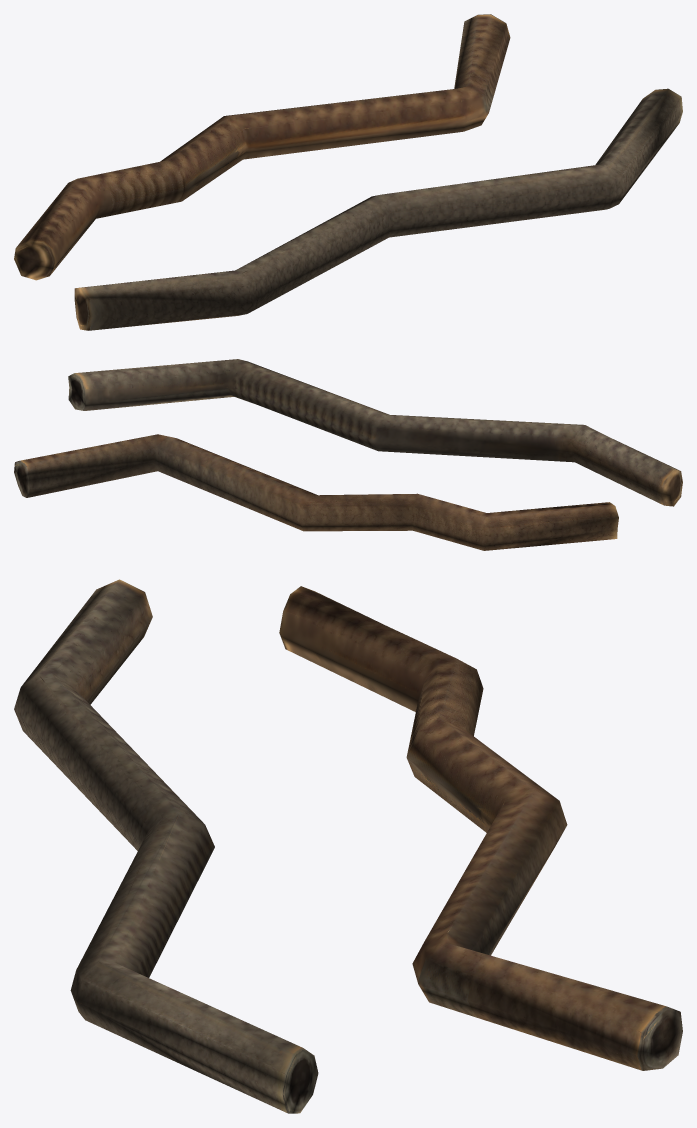
The model's file is Meshy_AI_Bent_Metal_Pipes_0831082639_texture.fbx.
3 renders of one model, top to bottom at view 1: azimuth 30°, elevation 25°; view 2: azimuth 150°, elevation 25°; view 3: azimuth 270°, elevation 25°, orthographic. The views are drawn at different scales.
Parts seen in each view (by area): view 1: mesh_node; view 2: mesh_node; view 3: mesh_node.
Part boxes in pixels (x1,y1,x2,y2): mesh_node: (14, 14, 682, 330); mesh_node: (14, 359, 682, 550); mesh_node: (14, 579, 682, 1113).
Size of the model in its own units: 100 by 6.64 by 58.79.
Materials: 1 (1 with a texture image).
